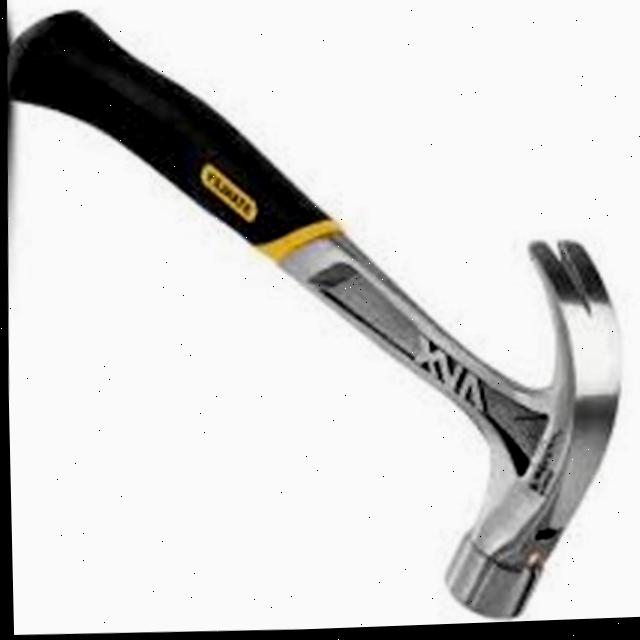hammer: (0, 0, 632, 640)
